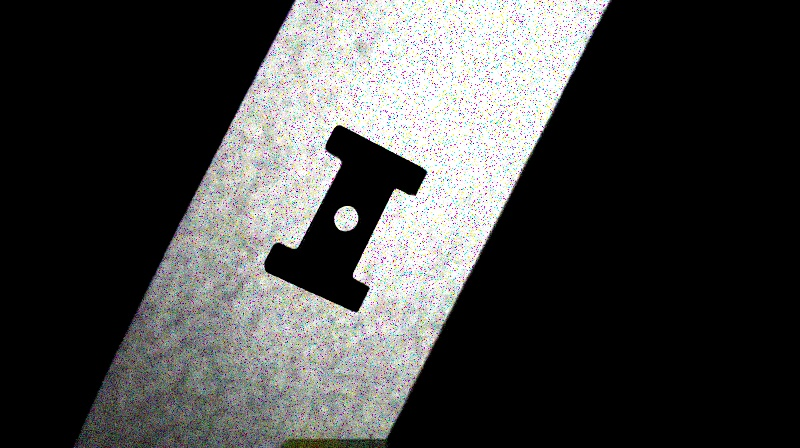O002: (258, 121, 431, 312)
